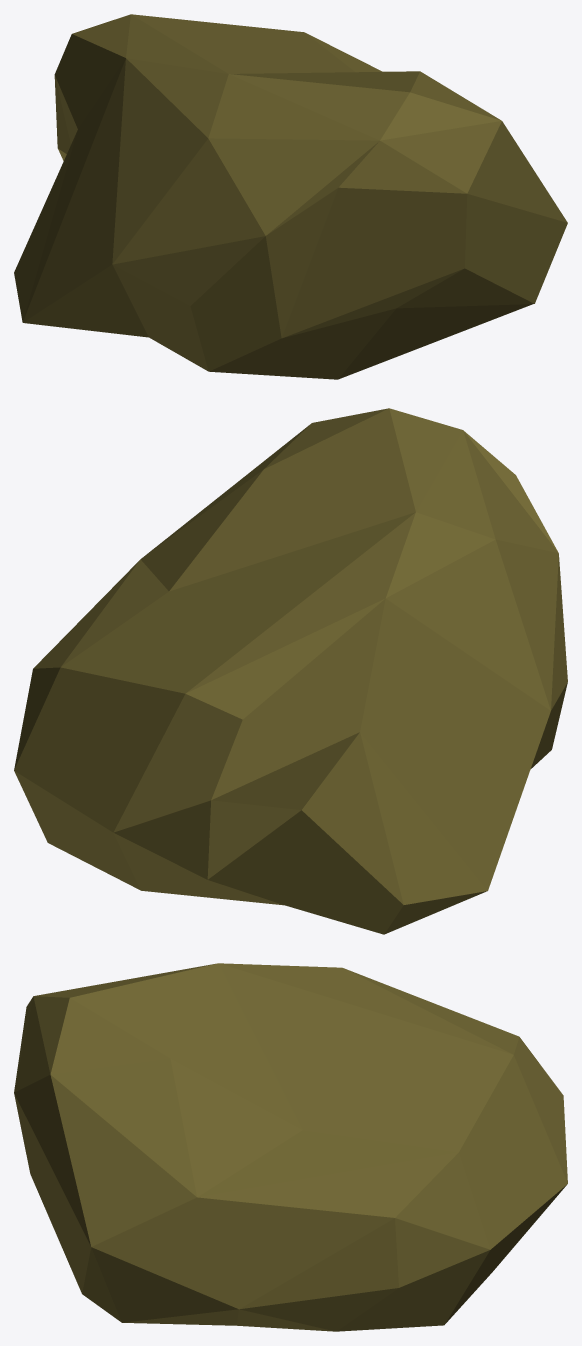
The model's file is stone003.fbx.
The picture shows the model from 3 angles, top to bottom: view 1: azimuth 30°, elevation 25°; view 2: azimuth 150°, elevation 25°; view 3: azimuth 270°, elevation 25°; orthographic projection. The views are drawn at different scales.
Parts seen in each view (by area): view 1: Stone2; view 2: Stone2; view 3: Stone2.
Boxes of the visible parts, x1,y1,x2,y2 form: Stone2: (14, 14, 567, 379); Stone2: (14, 408, 567, 934); Stone2: (14, 963, 567, 1331).
Size of the model in its own units: 407 by 292 by 485.
